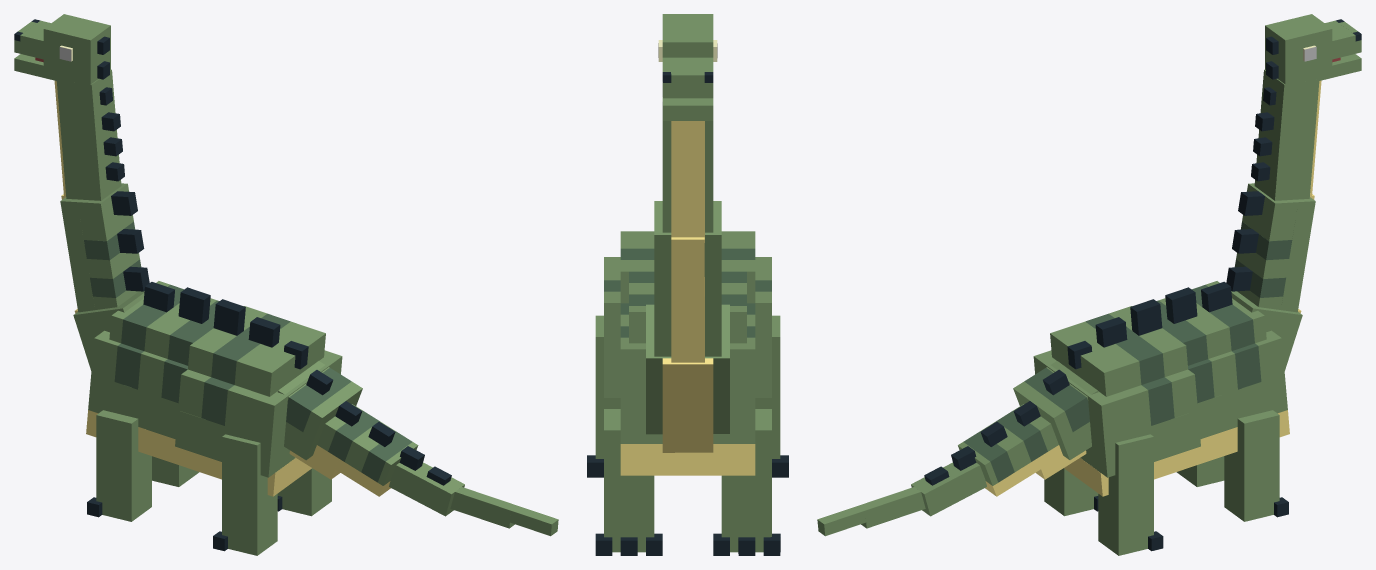
The model's file is diplodocus.obj.
The picture shows the model from 3 angles, left to right: view 1: azimuth 30°, elevation 25°; view 2: azimuth 150°, elevation 25°; view 3: azimuth 270°, elevation 25°; orthographic projection. The views are drawn at different scales.
Parts seen in each view (by area): view 1: Head, LowerTorso, Tail, UpperTorso, LeftUpperLeg, LeftUpperArm, RightUpperLeg, RightUpperArm; view 2: Head, UpperTorso, LowerTorso, LeftUpperArm, RightUpperArm, RightUpperLeg, LeftUpperLeg; view 3: Head, LowerTorso, Tail, UpperTorso, RightUpperLeg, RightUpperArm, LeftUpperLeg, LeftUpperArm.
Boxes of the visible parts, left/top/right/bottom form: Head: left=14, top=14, right=149, bottom=370; LowerTorso: left=175, top=299, right=342, bottom=496; Tail: left=277, top=361, right=558, bottom=536; UpperTorso: left=86, top=281, right=219, bottom=465; LeftUpperLeg: left=213, top=434, right=277, bottom=555; LeftUpperArm: left=87, top=410, right=151, bottom=521; RightUpperLeg: left=277, top=468, right=331, bottom=516; RightUpperArm: left=152, top=456, right=199, bottom=486; Head: left=646, top=14, right=729, bottom=452; UpperTorso: left=620, top=271, right=755, bottom=475; LowerTorso: left=604, top=231, right=771, bottom=397; LeftUpperArm: left=713, top=409, right=780, bottom=555; RightUpperArm: left=595, top=409, right=662, bottom=555; RightUpperLeg: left=587, top=315, right=620, bottom=477; LeftUpperLeg: left=755, top=315, right=788, bottom=477; Head: left=1226, top=14, right=1361, bottom=370; LowerTorso: left=1033, top=299, right=1200, bottom=496; Tail: left=817, top=361, right=1098, bottom=536; UpperTorso: left=1156, top=281, right=1289, bottom=465; RightUpperLeg: left=1098, top=434, right=1163, bottom=555; RightUpperArm: left=1224, top=410, right=1288, bottom=521; LeftUpperLeg: left=1044, top=468, right=1098, bottom=516; LeftUpperArm: left=1176, top=456, right=1224, bottom=486.
Size of the model in its own units: 23.11 by 34.67 by 38.13.
